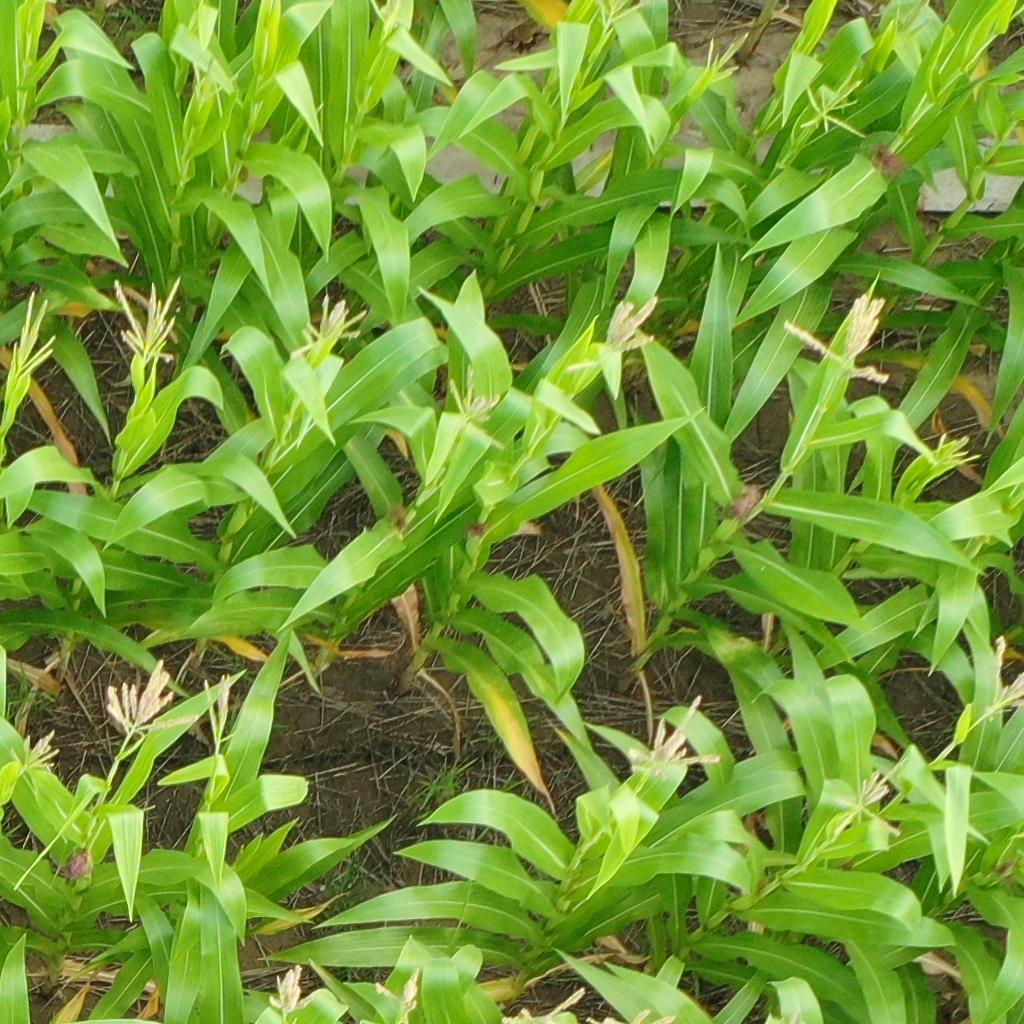Tassel: (779, 291, 894, 388), (621, 695, 724, 782), (101, 658, 198, 736), (567, 295, 659, 375), (830, 753, 907, 842), (112, 273, 181, 364), (801, 68, 872, 142), (290, 295, 369, 361), (7, 291, 57, 382), (443, 360, 501, 429), (499, 987, 585, 1024), (202, 674, 244, 748), (985, 638, 1024, 715), (698, 31, 750, 83), (189, 57, 241, 104), (374, 968, 420, 1018), (9, 729, 62, 771), (889, 1, 933, 49), (269, 963, 311, 1013), (931, 431, 982, 467), (585, 1009, 677, 1024), (371, 1, 404, 39), (600, 1, 645, 27)
